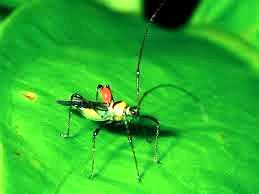Helopeltis-insect: (67, 83, 152, 132)
